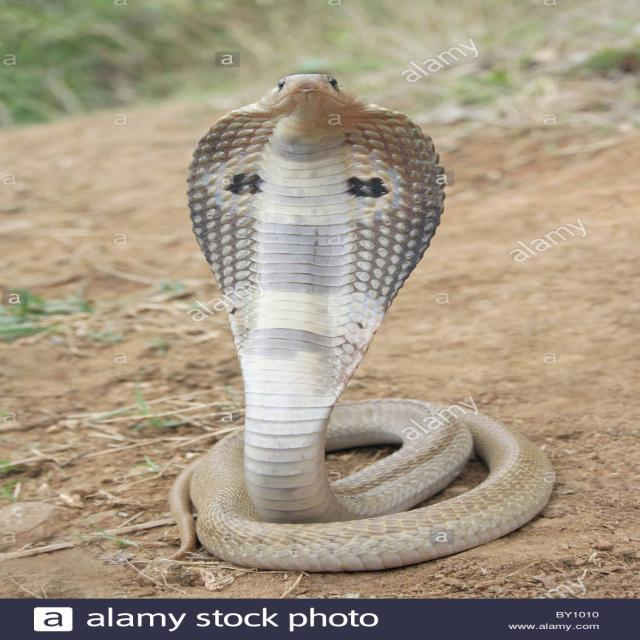Snake: (150, 66, 566, 572)
